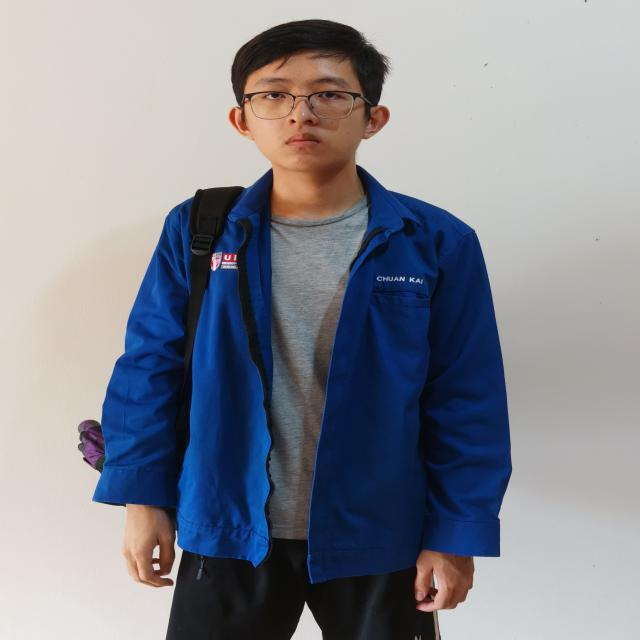person_with_labcoat: (79, 20, 511, 640)
